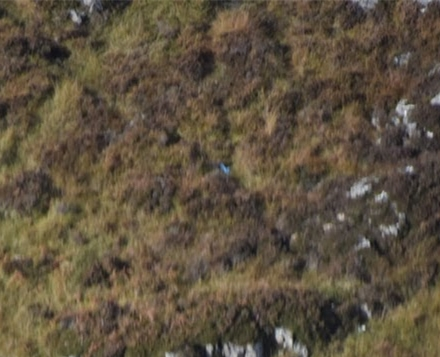white_in_green: (203, 146, 247, 187)
